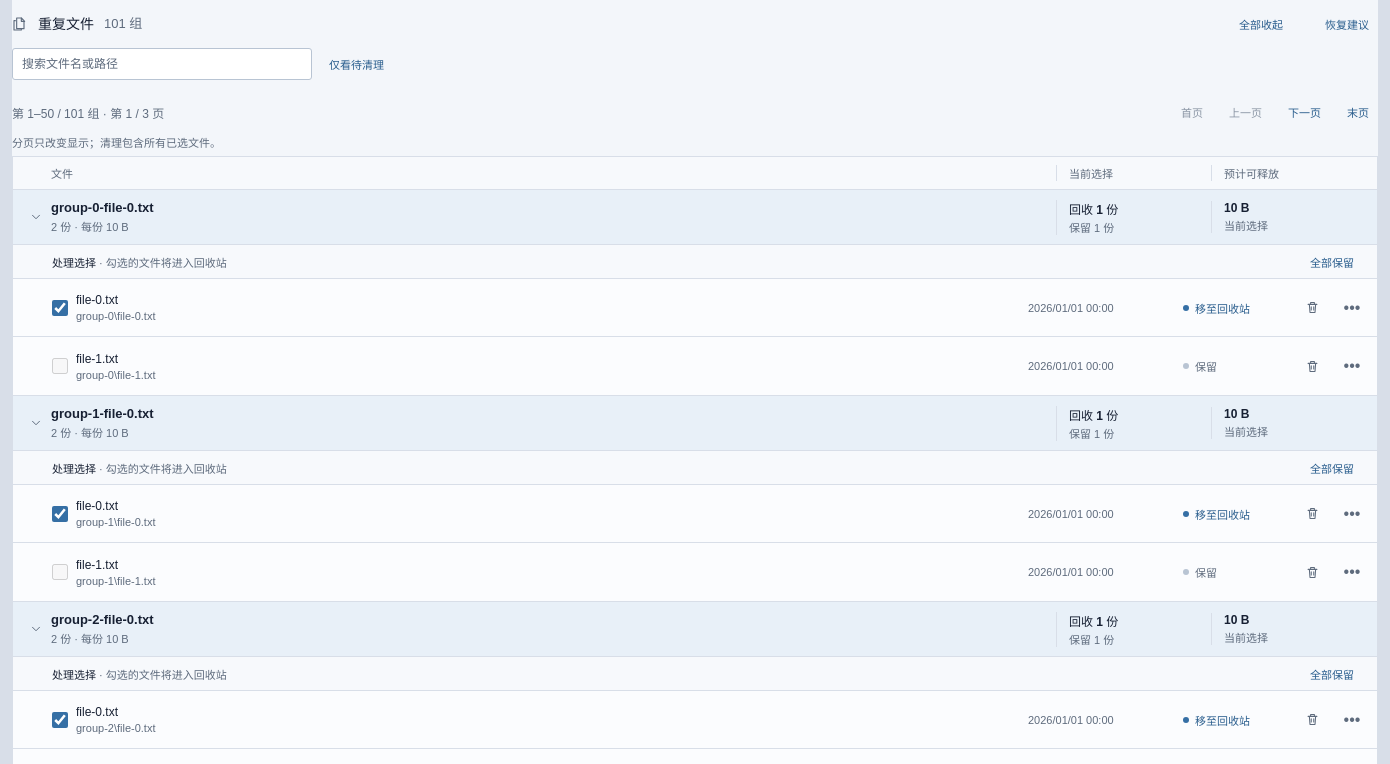
it: 审阅显示分页 › 全局搜索页外组并重置组页；过滤不重置人工选择
Click the button with aria-label "重复组：下一页" at (1304, 112), box [1279,96,1330,128]
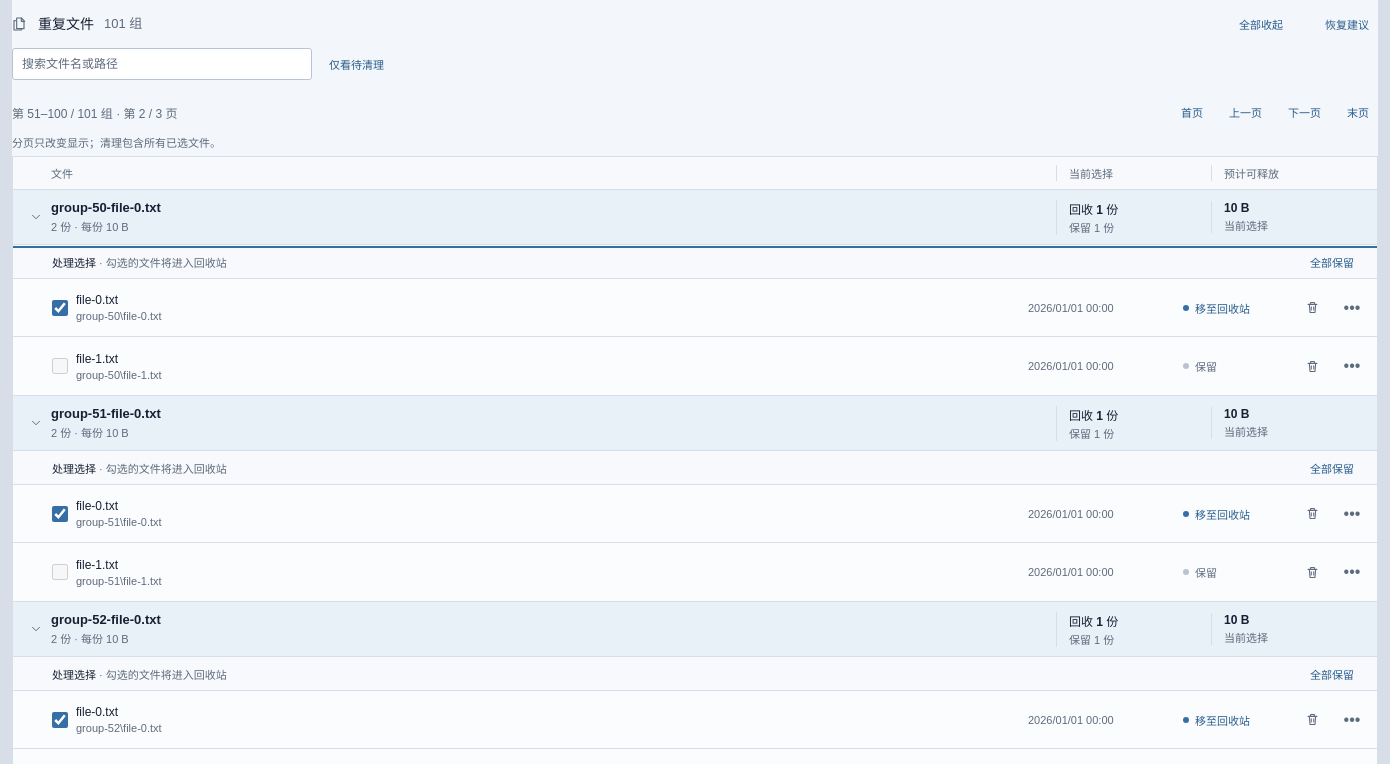
Type "group-100" into the search field at (162, 64), box [12,48,312,80]
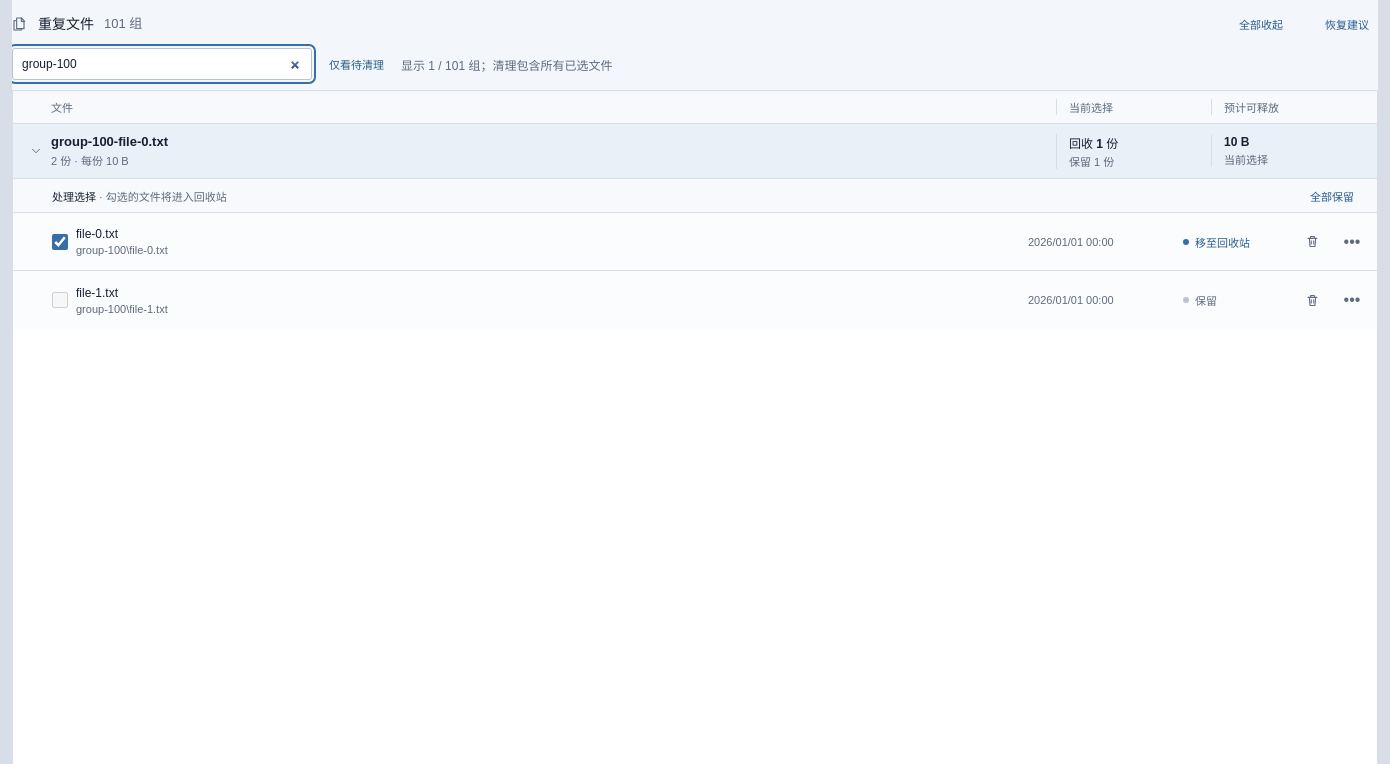
Check: the checkbox named "移至回收站 group-100-file-0.txt" is checked, box [52,234,68,250]
Check: the number of elements with class "review-group" is 1, box [13,124,1377,329]
Clear the search field at (162, 64), box [12,48,312,80]
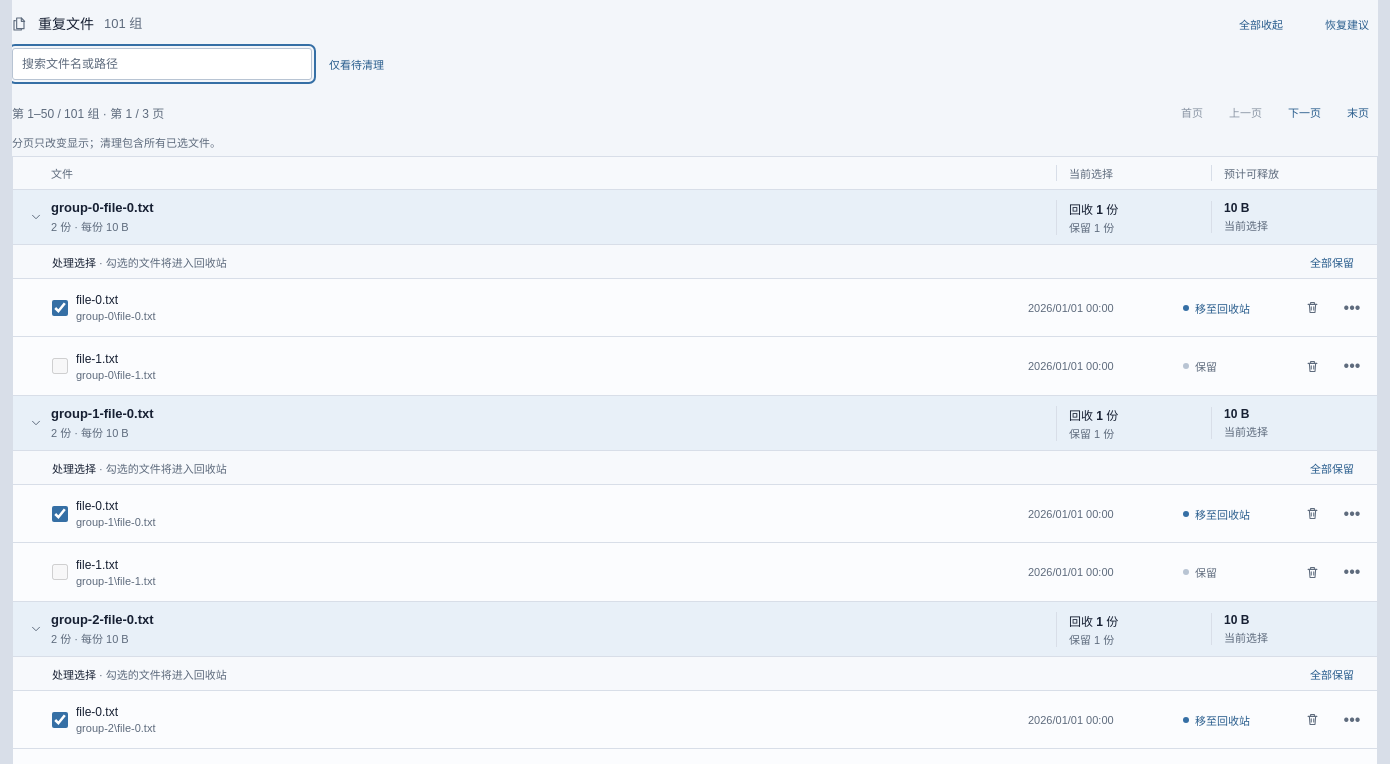
Check: the checkbox named "移至回收站 group-0-file-0.txt" is checked, box [52,300,68,316]
Check: the button with aria-label "重复组：上一页" is disabled, box [1220,96,1271,128]
